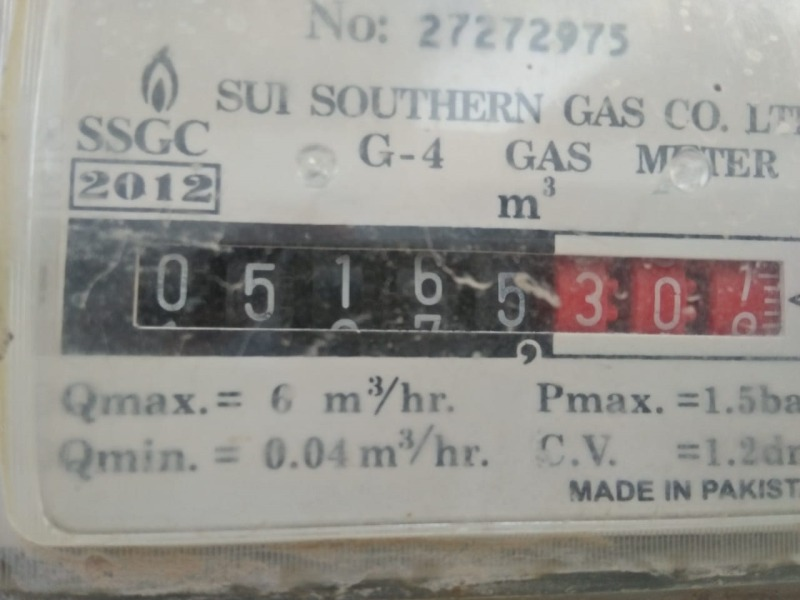ssgc: (124, 225, 792, 356)
